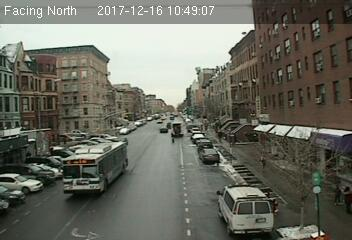bus: (62, 140, 128, 195)
car: (200, 148, 219, 161)
police: (213, 179, 274, 235)
